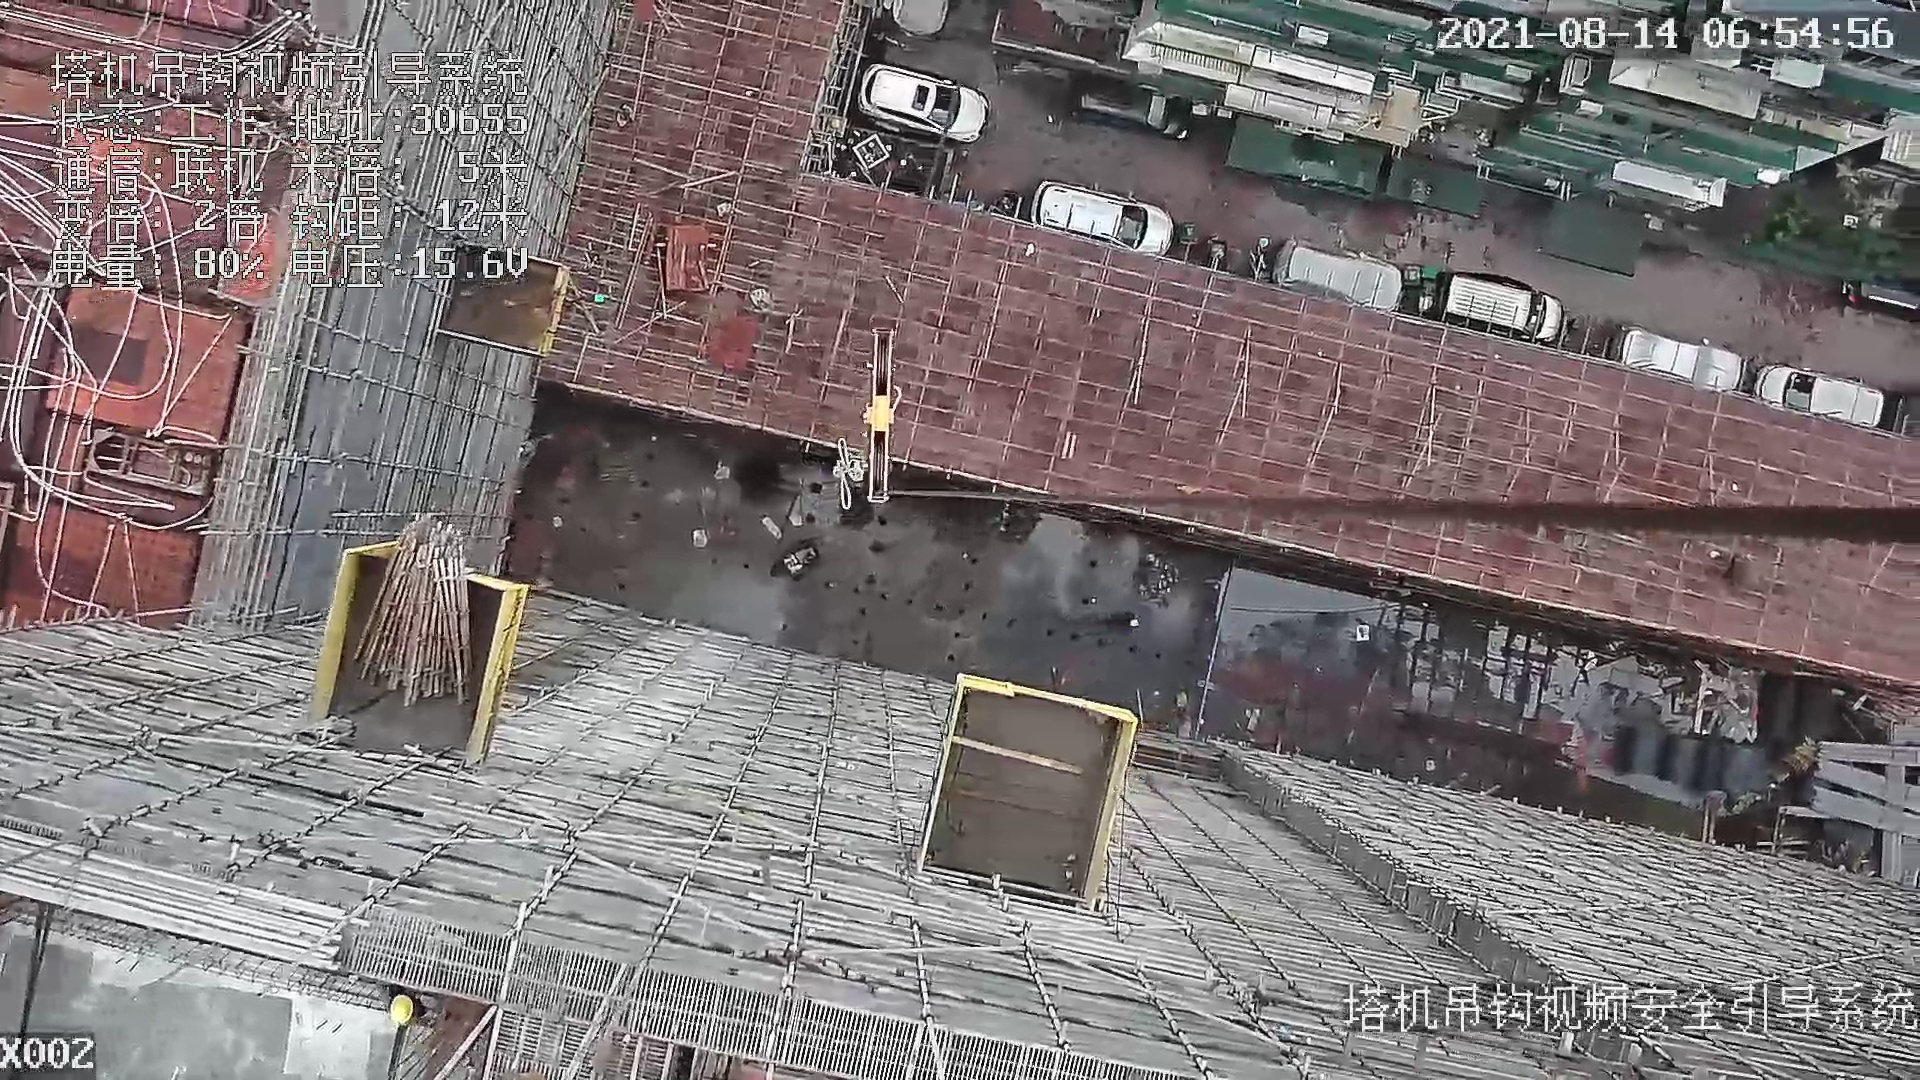helmet: (389, 994, 413, 1023)
hook: (859, 322, 901, 508)
person: (381, 985, 431, 1026)
rebar: (1, 833, 339, 968), (1819, 758, 1920, 816), (1819, 788, 1920, 841), (1817, 735, 1920, 770)
scaffold: (352, 520, 477, 706)
